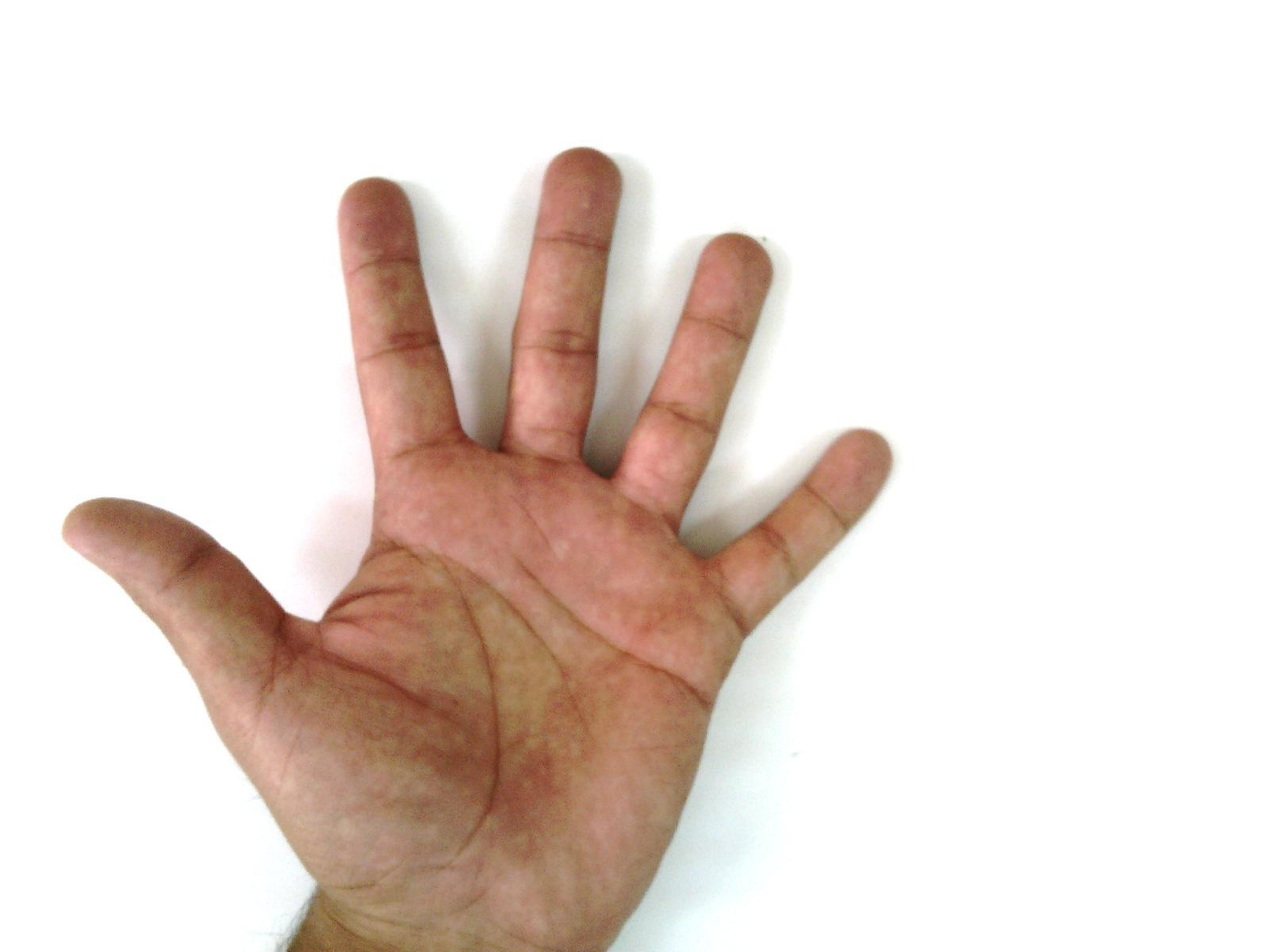open_palm: (61, 146, 896, 950)
